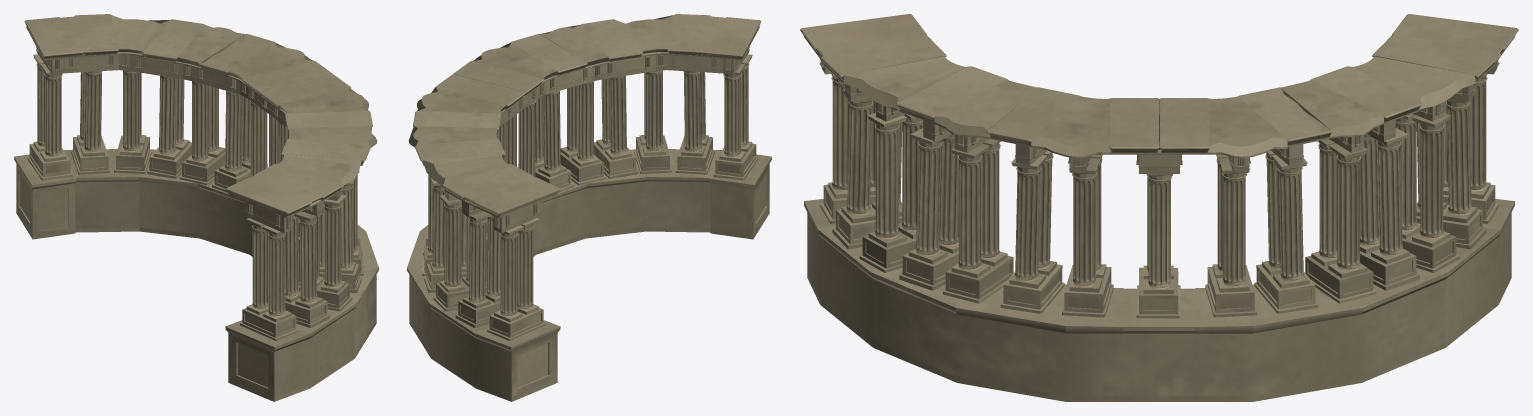
File: MonumentTxt1.fbx
3 views of the same model, side by side, from view 1: azimuth 30°, elevation 25°; view 2: azimuth 150°, elevation 25°; view 3: azimuth 270°, elevation 25° (orthographic). The views are drawn at different scales.
Visible parts, largest first — view 1: polySurface102; view 2: polySurface102; view 3: polySurface102.
Boxes of the visible parts, bbox=[...] form: polySurface102: bbox=[14, 14, 378, 401]; polySurface102: bbox=[407, 14, 771, 401]; polySurface102: bbox=[800, 14, 1518, 401].
Size of the model in its own units: 38.36 by 33.14 by 83.97.
1 material, 1 textured.
